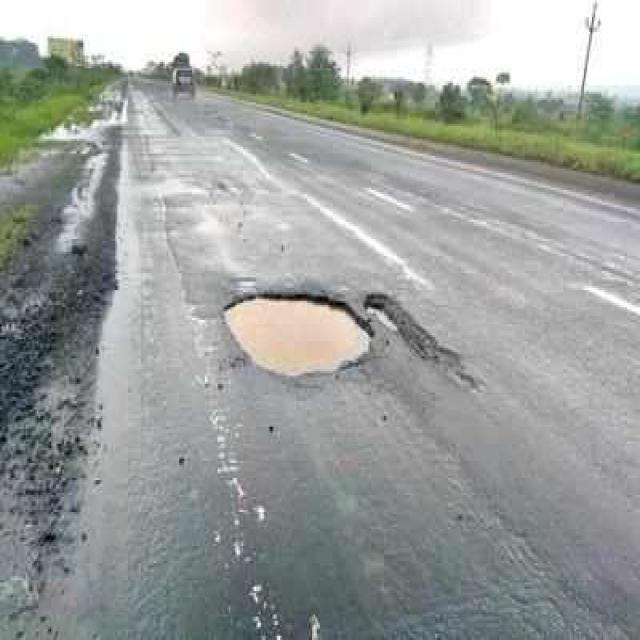Pothole: (222, 294, 376, 380), (365, 294, 464, 384)
